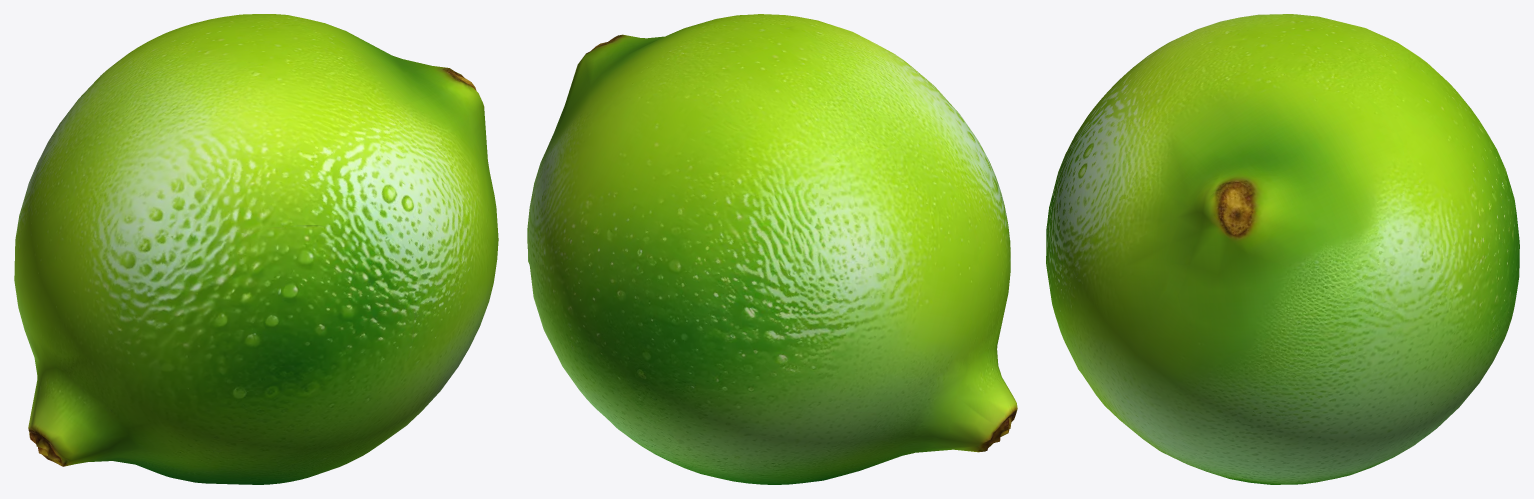
The model's file is f-lime-whole.glb.
The picture shows the model from 3 angles, left to right: view 1: azimuth 30°, elevation 25°; view 2: azimuth 150°, elevation 25°; view 3: azimuth 270°, elevation 25°; orthographic projection.
Visible parts, largest first — view 1: node_0; view 2: node_0; view 3: node_0.
Part boxes in pixels (x1,y1,x2,y2): node_0: (14,14,498,484); node_0: (527,14,1017,484); node_0: (1046,14,1519,484).
Bounding box in the file's own units: 1.05 × 0.9463 × 0.9527.
1 material, 1 textured.
